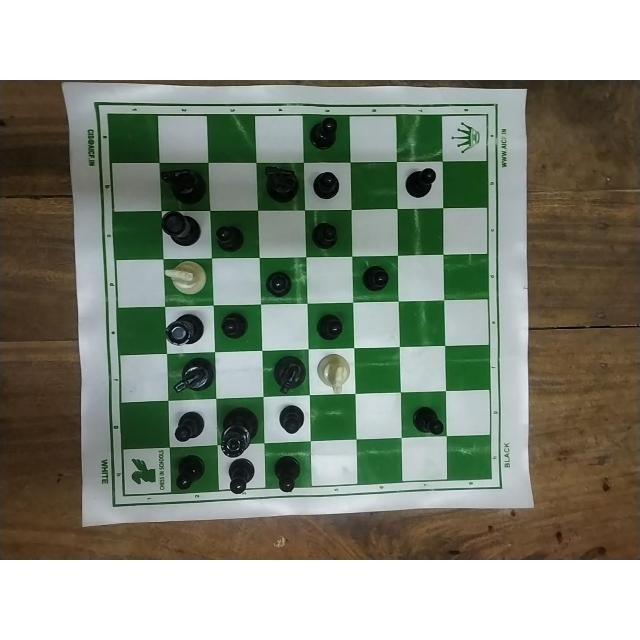black-knight: (157, 166, 209, 206), (171, 356, 214, 398), (262, 164, 301, 206), (271, 354, 306, 394)
black-pawn: (408, 396, 450, 440), (269, 452, 303, 493), (274, 399, 311, 436), (223, 458, 259, 496), (213, 221, 251, 256), (170, 408, 208, 443), (405, 164, 441, 200), (308, 114, 343, 151), (174, 453, 206, 491), (311, 310, 347, 343), (312, 166, 344, 203), (218, 308, 250, 344), (308, 218, 342, 249), (263, 266, 294, 300), (362, 266, 395, 291)
black-queen: (219, 401, 259, 456)
black-rook: (159, 208, 203, 247), (164, 311, 206, 347)
white-knight: (161, 258, 212, 295), (317, 348, 351, 395)
